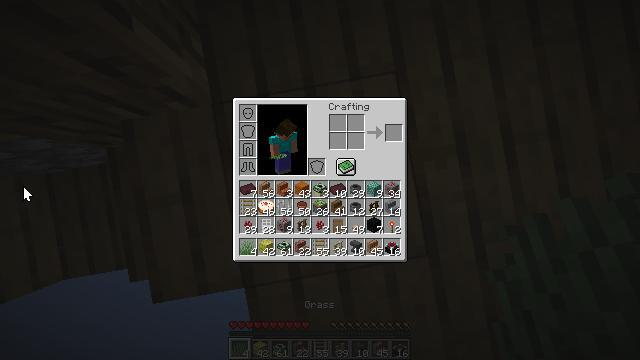cursor: (186, 23, 202, 33)
